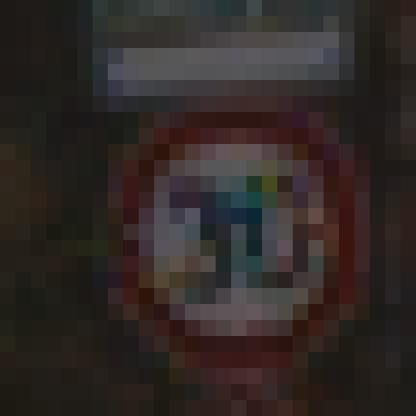Speed Limit 30: (120, 116, 359, 372)
